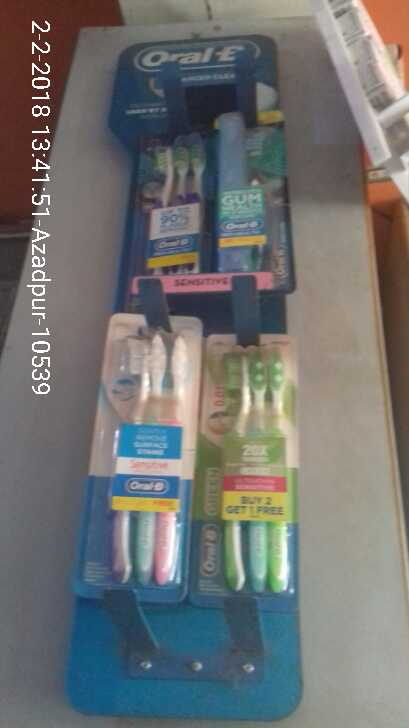oralb: (208, 339, 300, 612), (112, 315, 188, 595), (137, 136, 202, 272)
